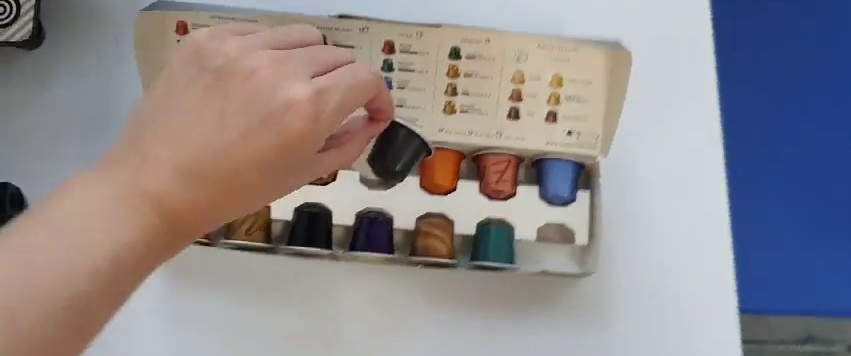capsule_4: (362, 111, 431, 187)
